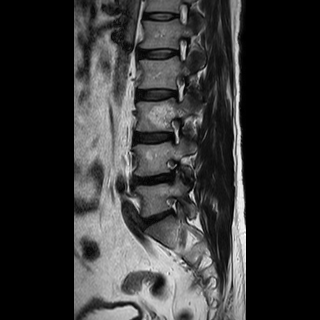LFS0: (163, 113, 187, 149), (167, 71, 191, 107), (167, 31, 192, 64)
LFS1: (163, 191, 185, 225)
LFS2: (160, 154, 182, 190)
